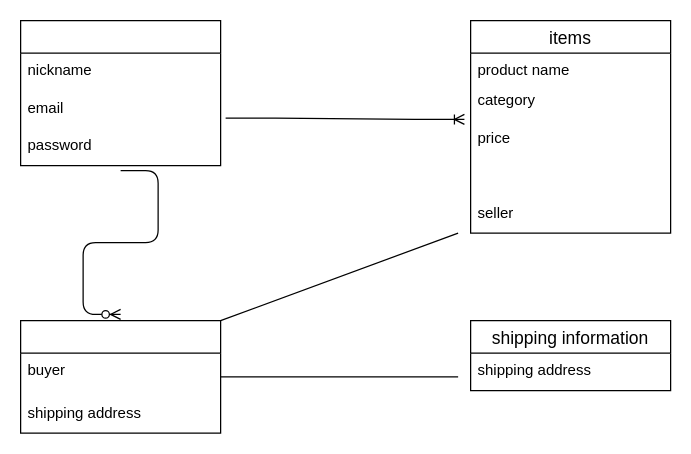
This 691x454 diagram has some shape labels left out. Here are the shapes that lost their labels. From the top down, the box of each, then its label:
(19, 19, 221, 166): users
(19, 319, 221, 433): purchase record
